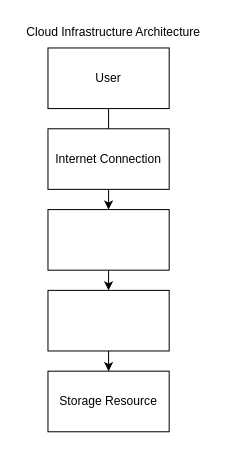
This 226x449 diagram has some shape labels left out. Here are the shapes that lost their labels. From the top down, the box of each, then its label:
(47, 209, 169, 270): Network
(47, 289, 169, 351): Compute Resource
